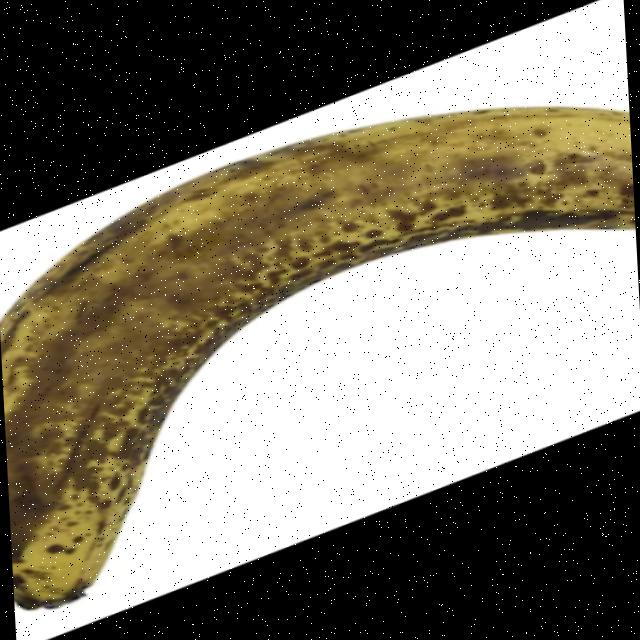overripe: (0, 95, 640, 614)
